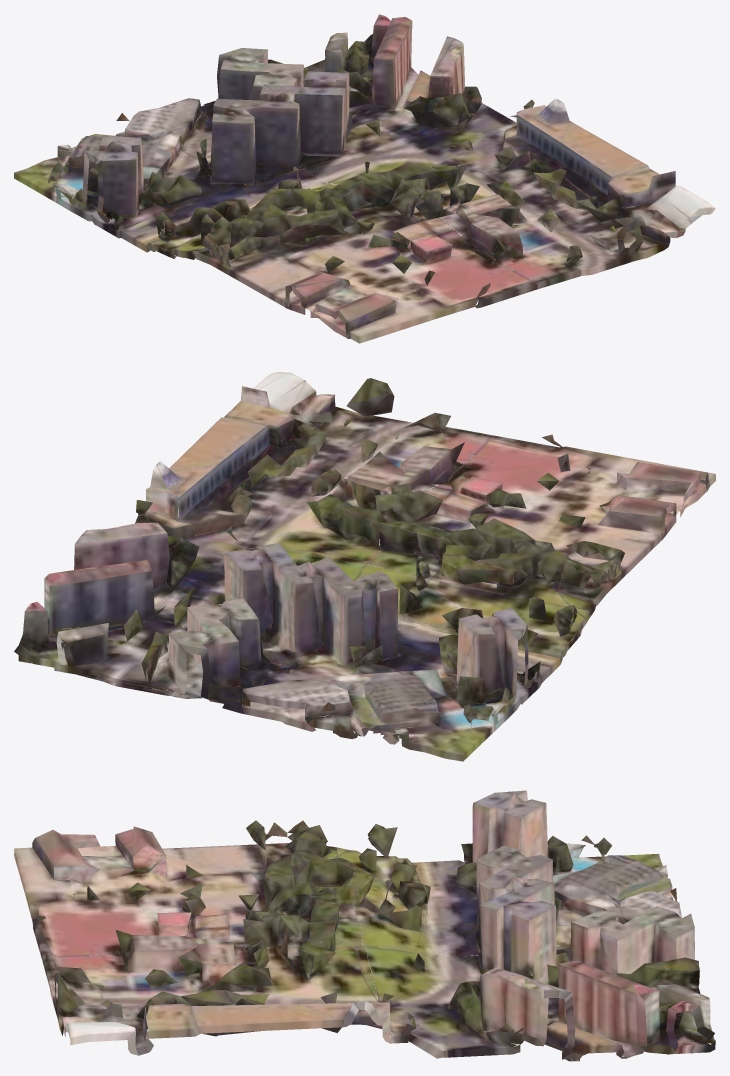
3 renders of one model, top to bottom at view 1: azimuth 30°, elevation 25°; view 2: azimuth 150°, elevation 25°; view 3: azimuth 270°, elevation 25°, orthographic. The views are drawn at different scales.
Parts seen in each view (by area): view 1: Mesh_0; view 2: Mesh_0; view 3: Mesh_0.
Boxes of the visible parts, bbox=[...] form: Mesh_0: bbox=[14, 14, 715, 343]; Mesh_0: bbox=[14, 372, 715, 761]; Mesh_0: bbox=[14, 790, 715, 1061].
Size of the model in its own units: 266 by 49.86 by 330.
Materials: 2 (2 with a texture image).
